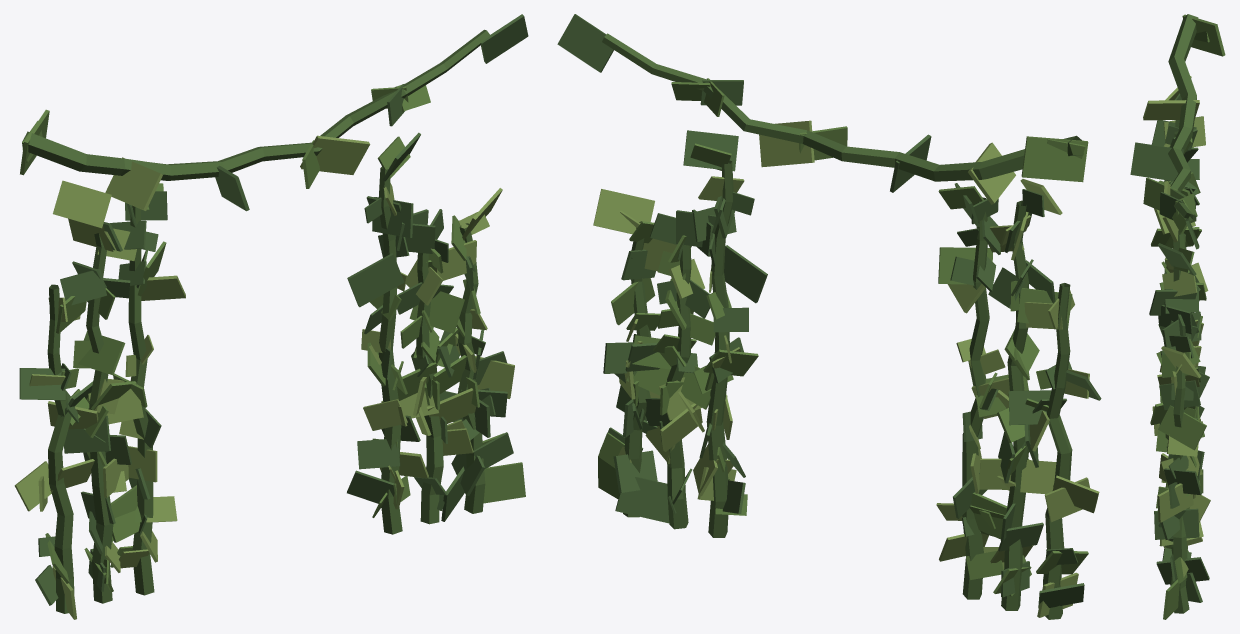
File: VN_WindowFrame.glb
3 views of the same model, side by side, from view 1: azimuth 30°, elevation 25°; view 2: azimuth 150°, elevation 25°; view 3: azimuth 270°, elevation 25° (orthographic). The views are drawn at different scales.
Parts seen in each view (by area): view 1: VN_WindowFrame; view 2: VN_WindowFrame; view 3: VN_WindowFrame.
Part boxes in pixels (x1=…): VN_WindowFrame: x1=14, y1=14, x2=528, y2=619; VN_WindowFrame: x1=557, y1=14, x2=1101, y2=619; VN_WindowFrame: x1=1130, y1=14, x2=1225, y2=619.
Bounding box in the file's own units: 2.37 × 2.11 × 0.4359.
